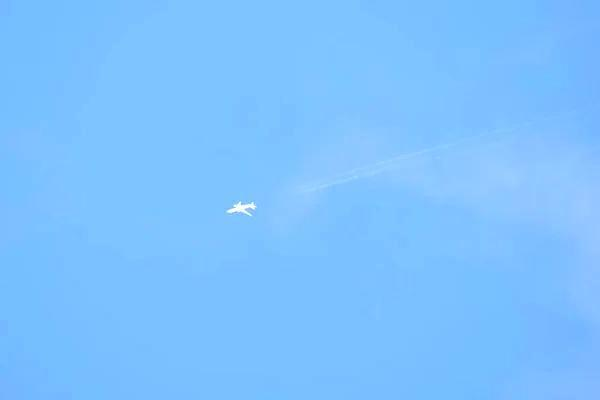Plane: (210, 194, 272, 225)
